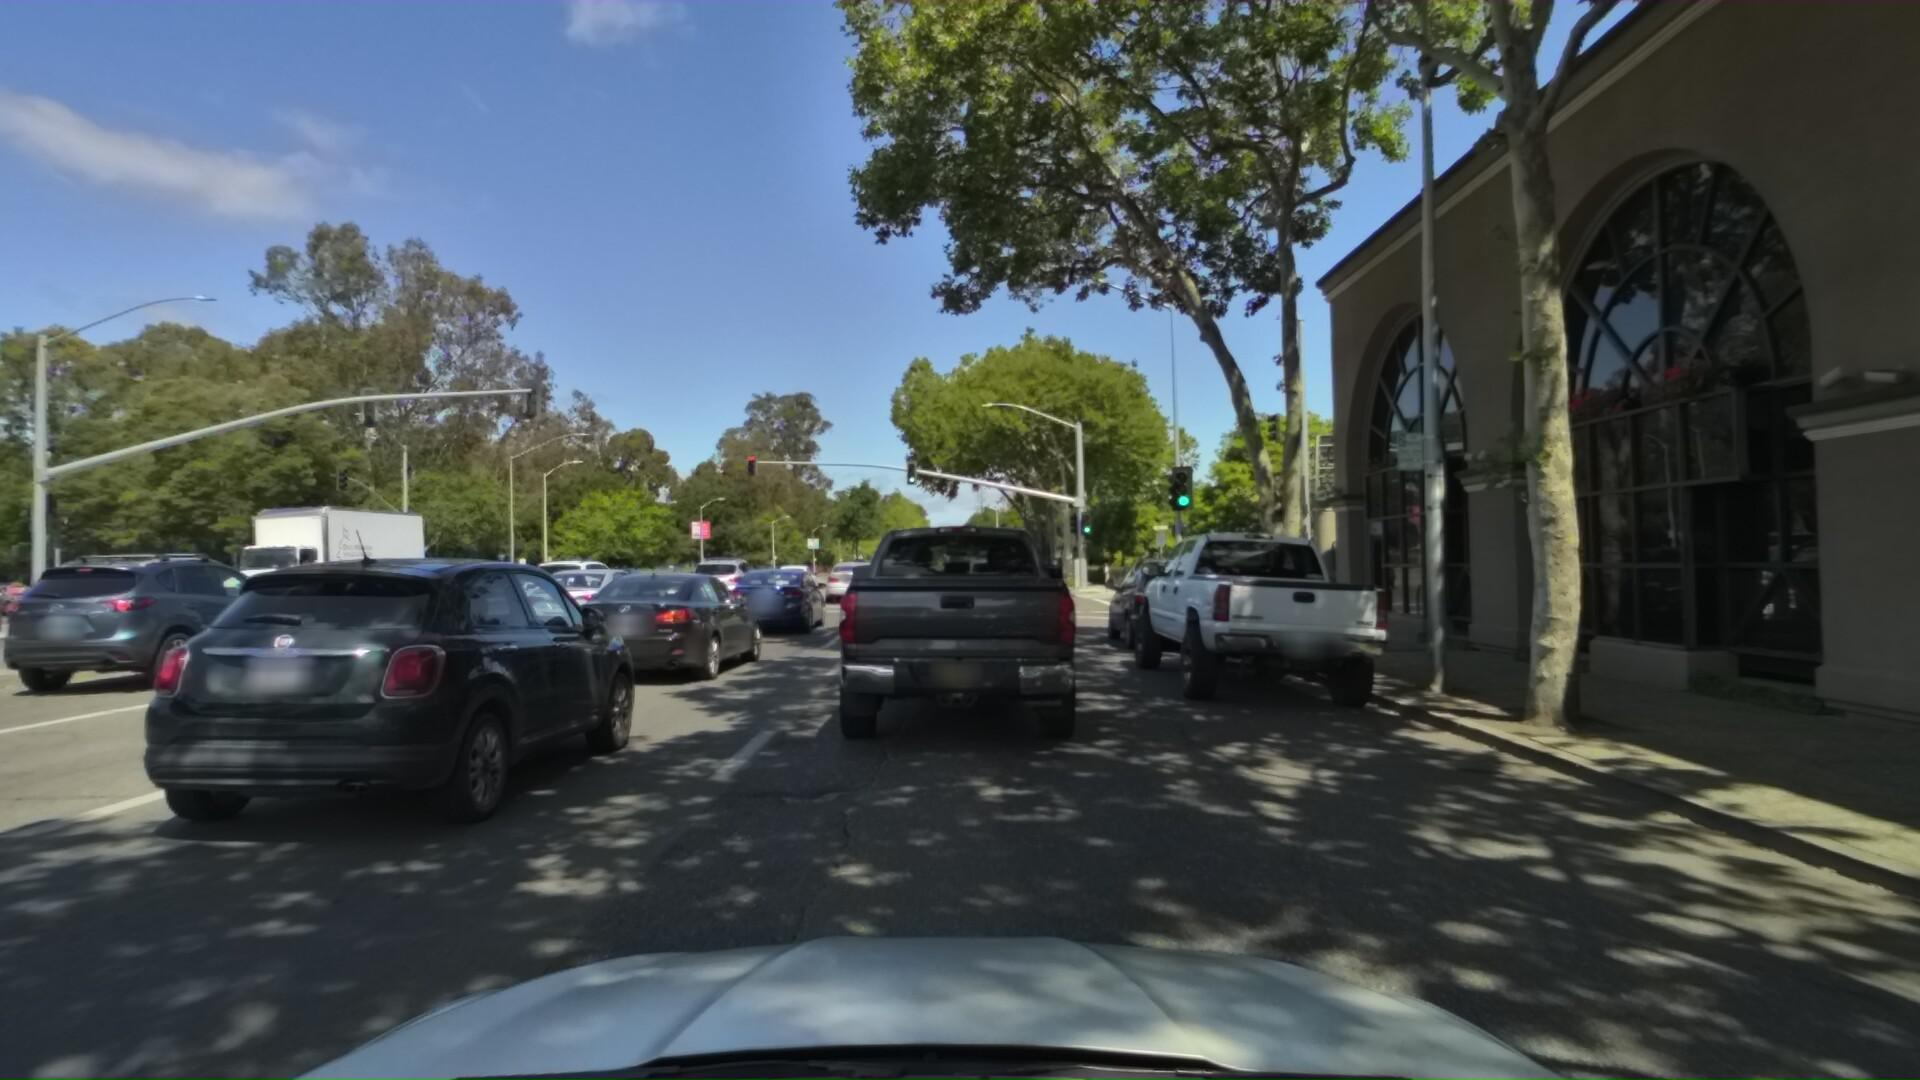car: (108, 527, 663, 877), (812, 465, 1097, 782), (1116, 512, 1408, 717), (0, 545, 349, 705), (556, 560, 775, 694), (1088, 543, 1247, 654), (943, 542, 1058, 655), (546, 555, 682, 633), (717, 560, 832, 642), (517, 542, 642, 611), (688, 538, 764, 597), (0, 568, 80, 612), (824, 556, 884, 607), (771, 555, 820, 589)
truck: (181, 488, 433, 621)
